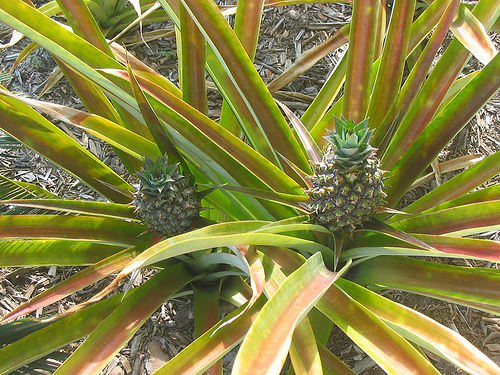pineapple: (300, 111, 390, 233), (131, 153, 202, 239)
